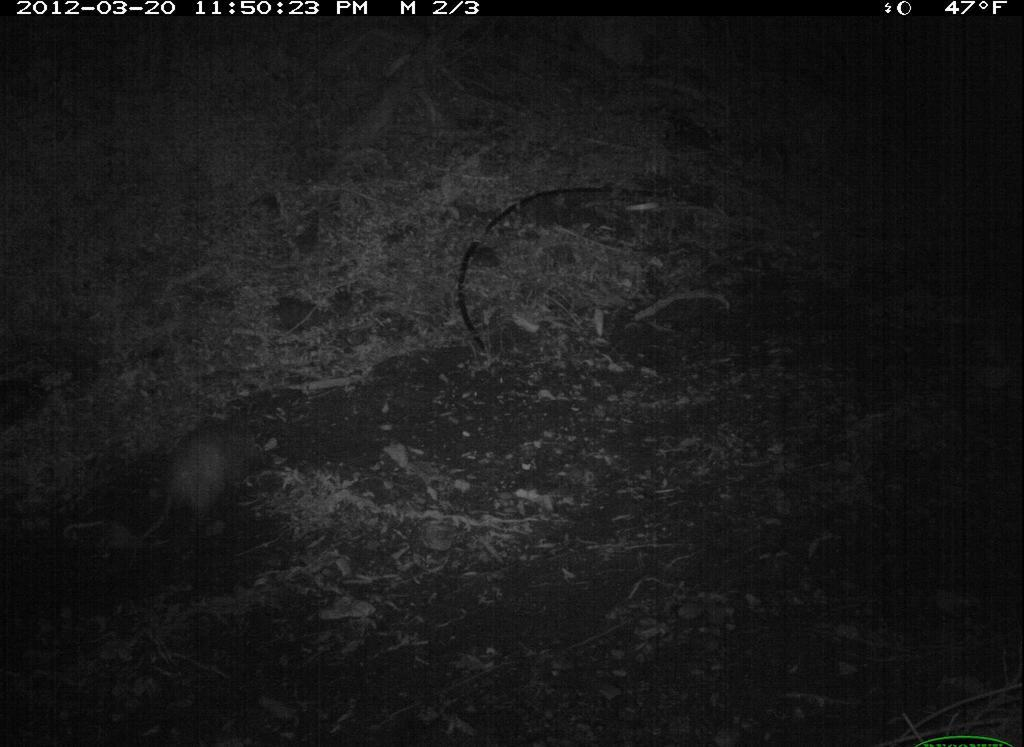opossum: (118, 408, 273, 587)
